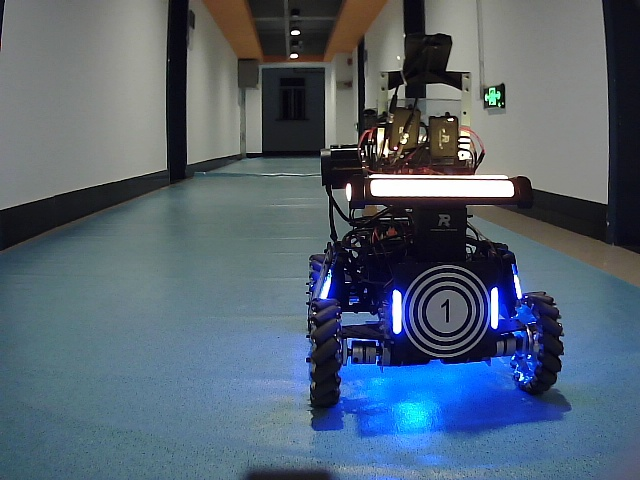lamp: (389, 289, 404, 337), (488, 285, 501, 333)
pair: (391, 288, 498, 329)
